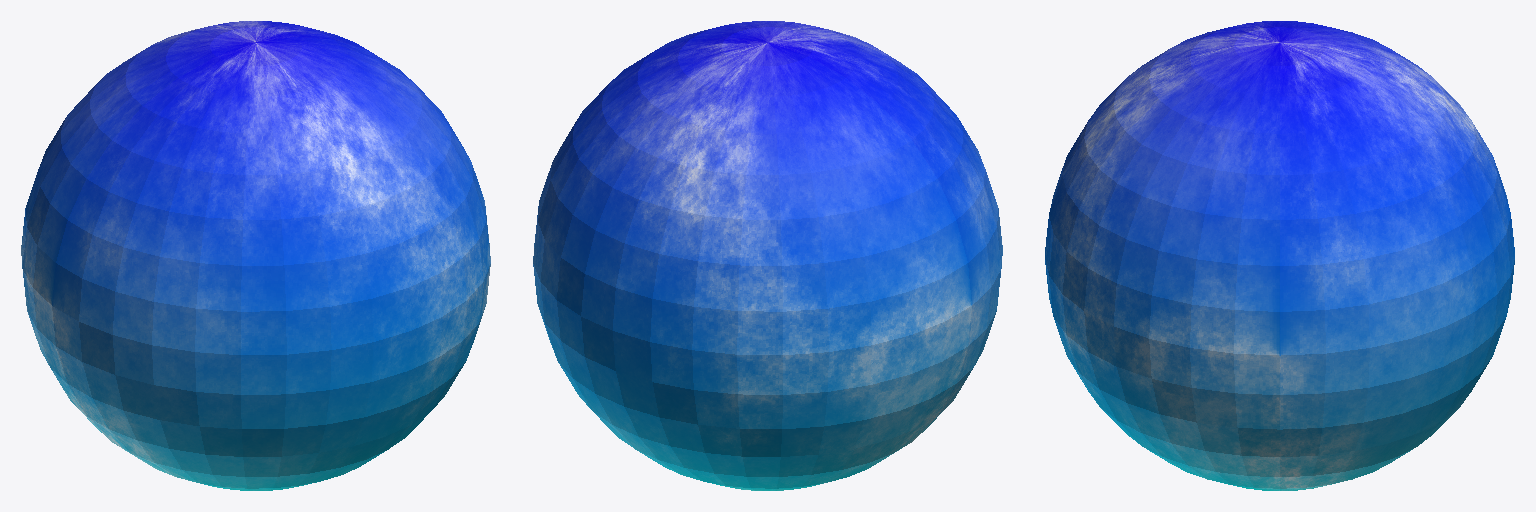
3 renders of one model, left to right at view 1: azimuth 30°, elevation 25°; view 2: azimuth 150°, elevation 25°; view 3: azimuth 270°, elevation 25°, orthographic.
Parts seen in each view (by area): view 1: 球; view 2: 球; view 3: 球.
Part boxes in pixels (left/top/right/bottom): 球: left=21, top=21, right=490, bottom=490; 球: left=533, top=21, right=1002, bottom=490; 球: left=1045, top=21, right=1514, bottom=490.
Bounding box in the file's own units: 1000 × 1000 × 1000.
Materials: 1 (1 with a texture image).